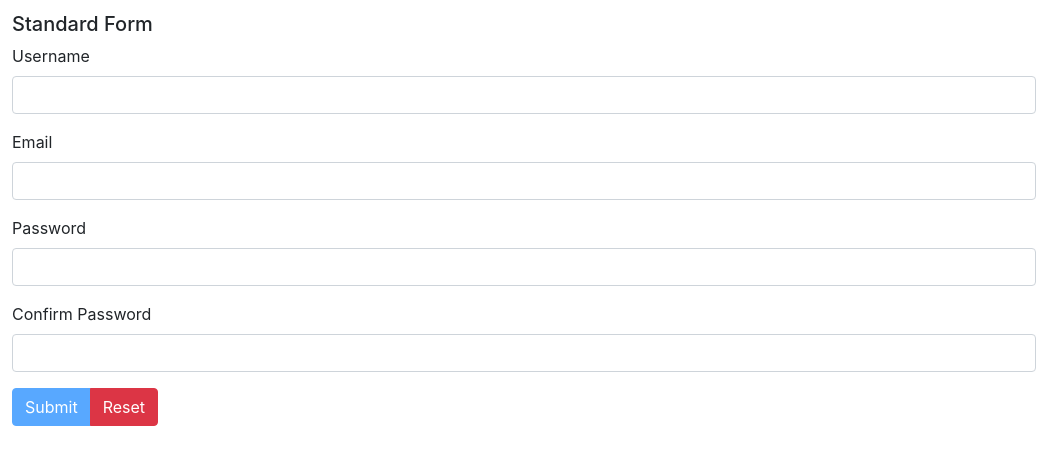
Test case: StandardForm › validates password correctly
The image size is (1048, 467).
Type "short" into the password field labelled "Password". click: coordinates (524, 267)
box: x1=12 y1=248 x2=1036 y2=286
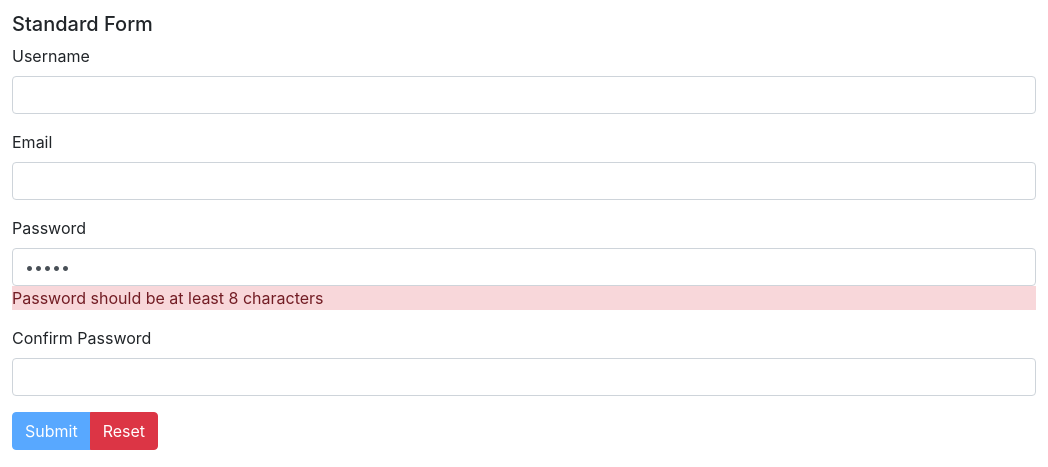
Expected: the text "Password should be at least 8 characters" is shown, x1=12 y1=286 x2=1036 y2=310
Type "validpassword" into the password field labelled "Password". click: coordinates (524, 267)
box: x1=12 y1=248 x2=1036 y2=286
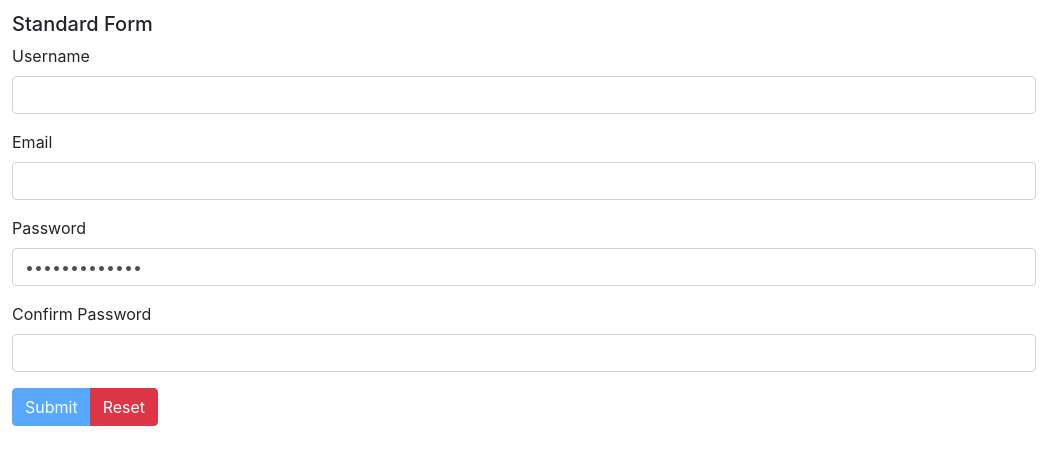
Expected: the text "Password should be at least 8 characters" is gone
